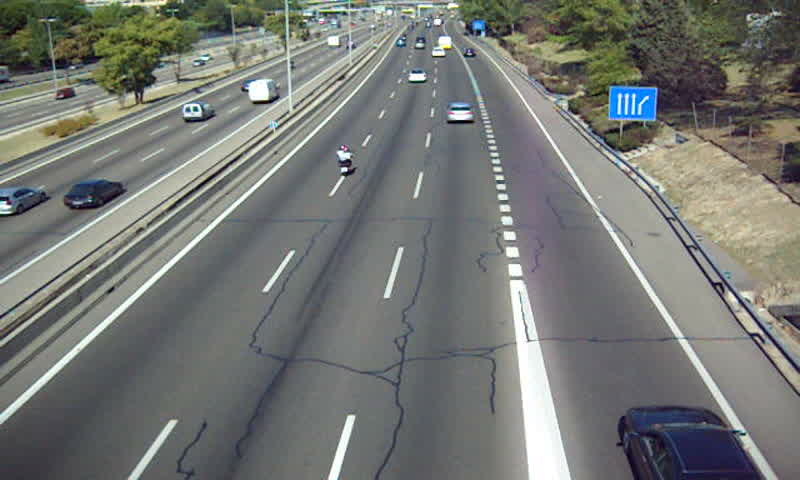car: (624, 405, 767, 480), (447, 101, 475, 123), (407, 68, 428, 82)
motorcycle: (336, 145, 354, 176)
